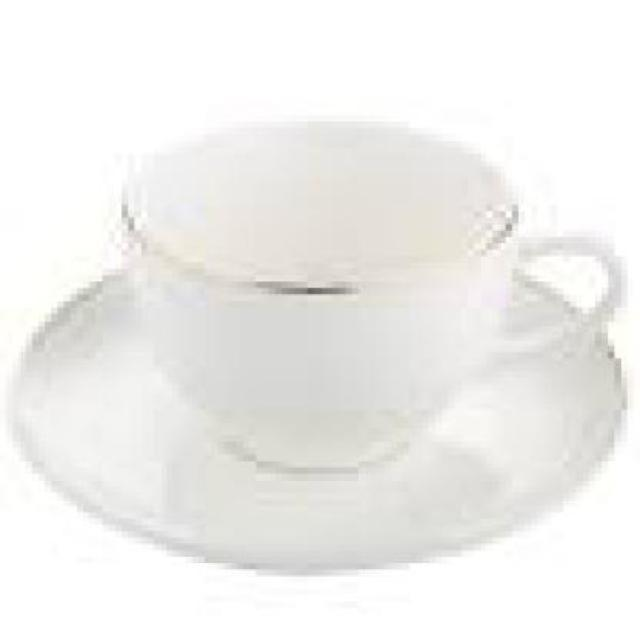cup: (0, 103, 634, 583)
